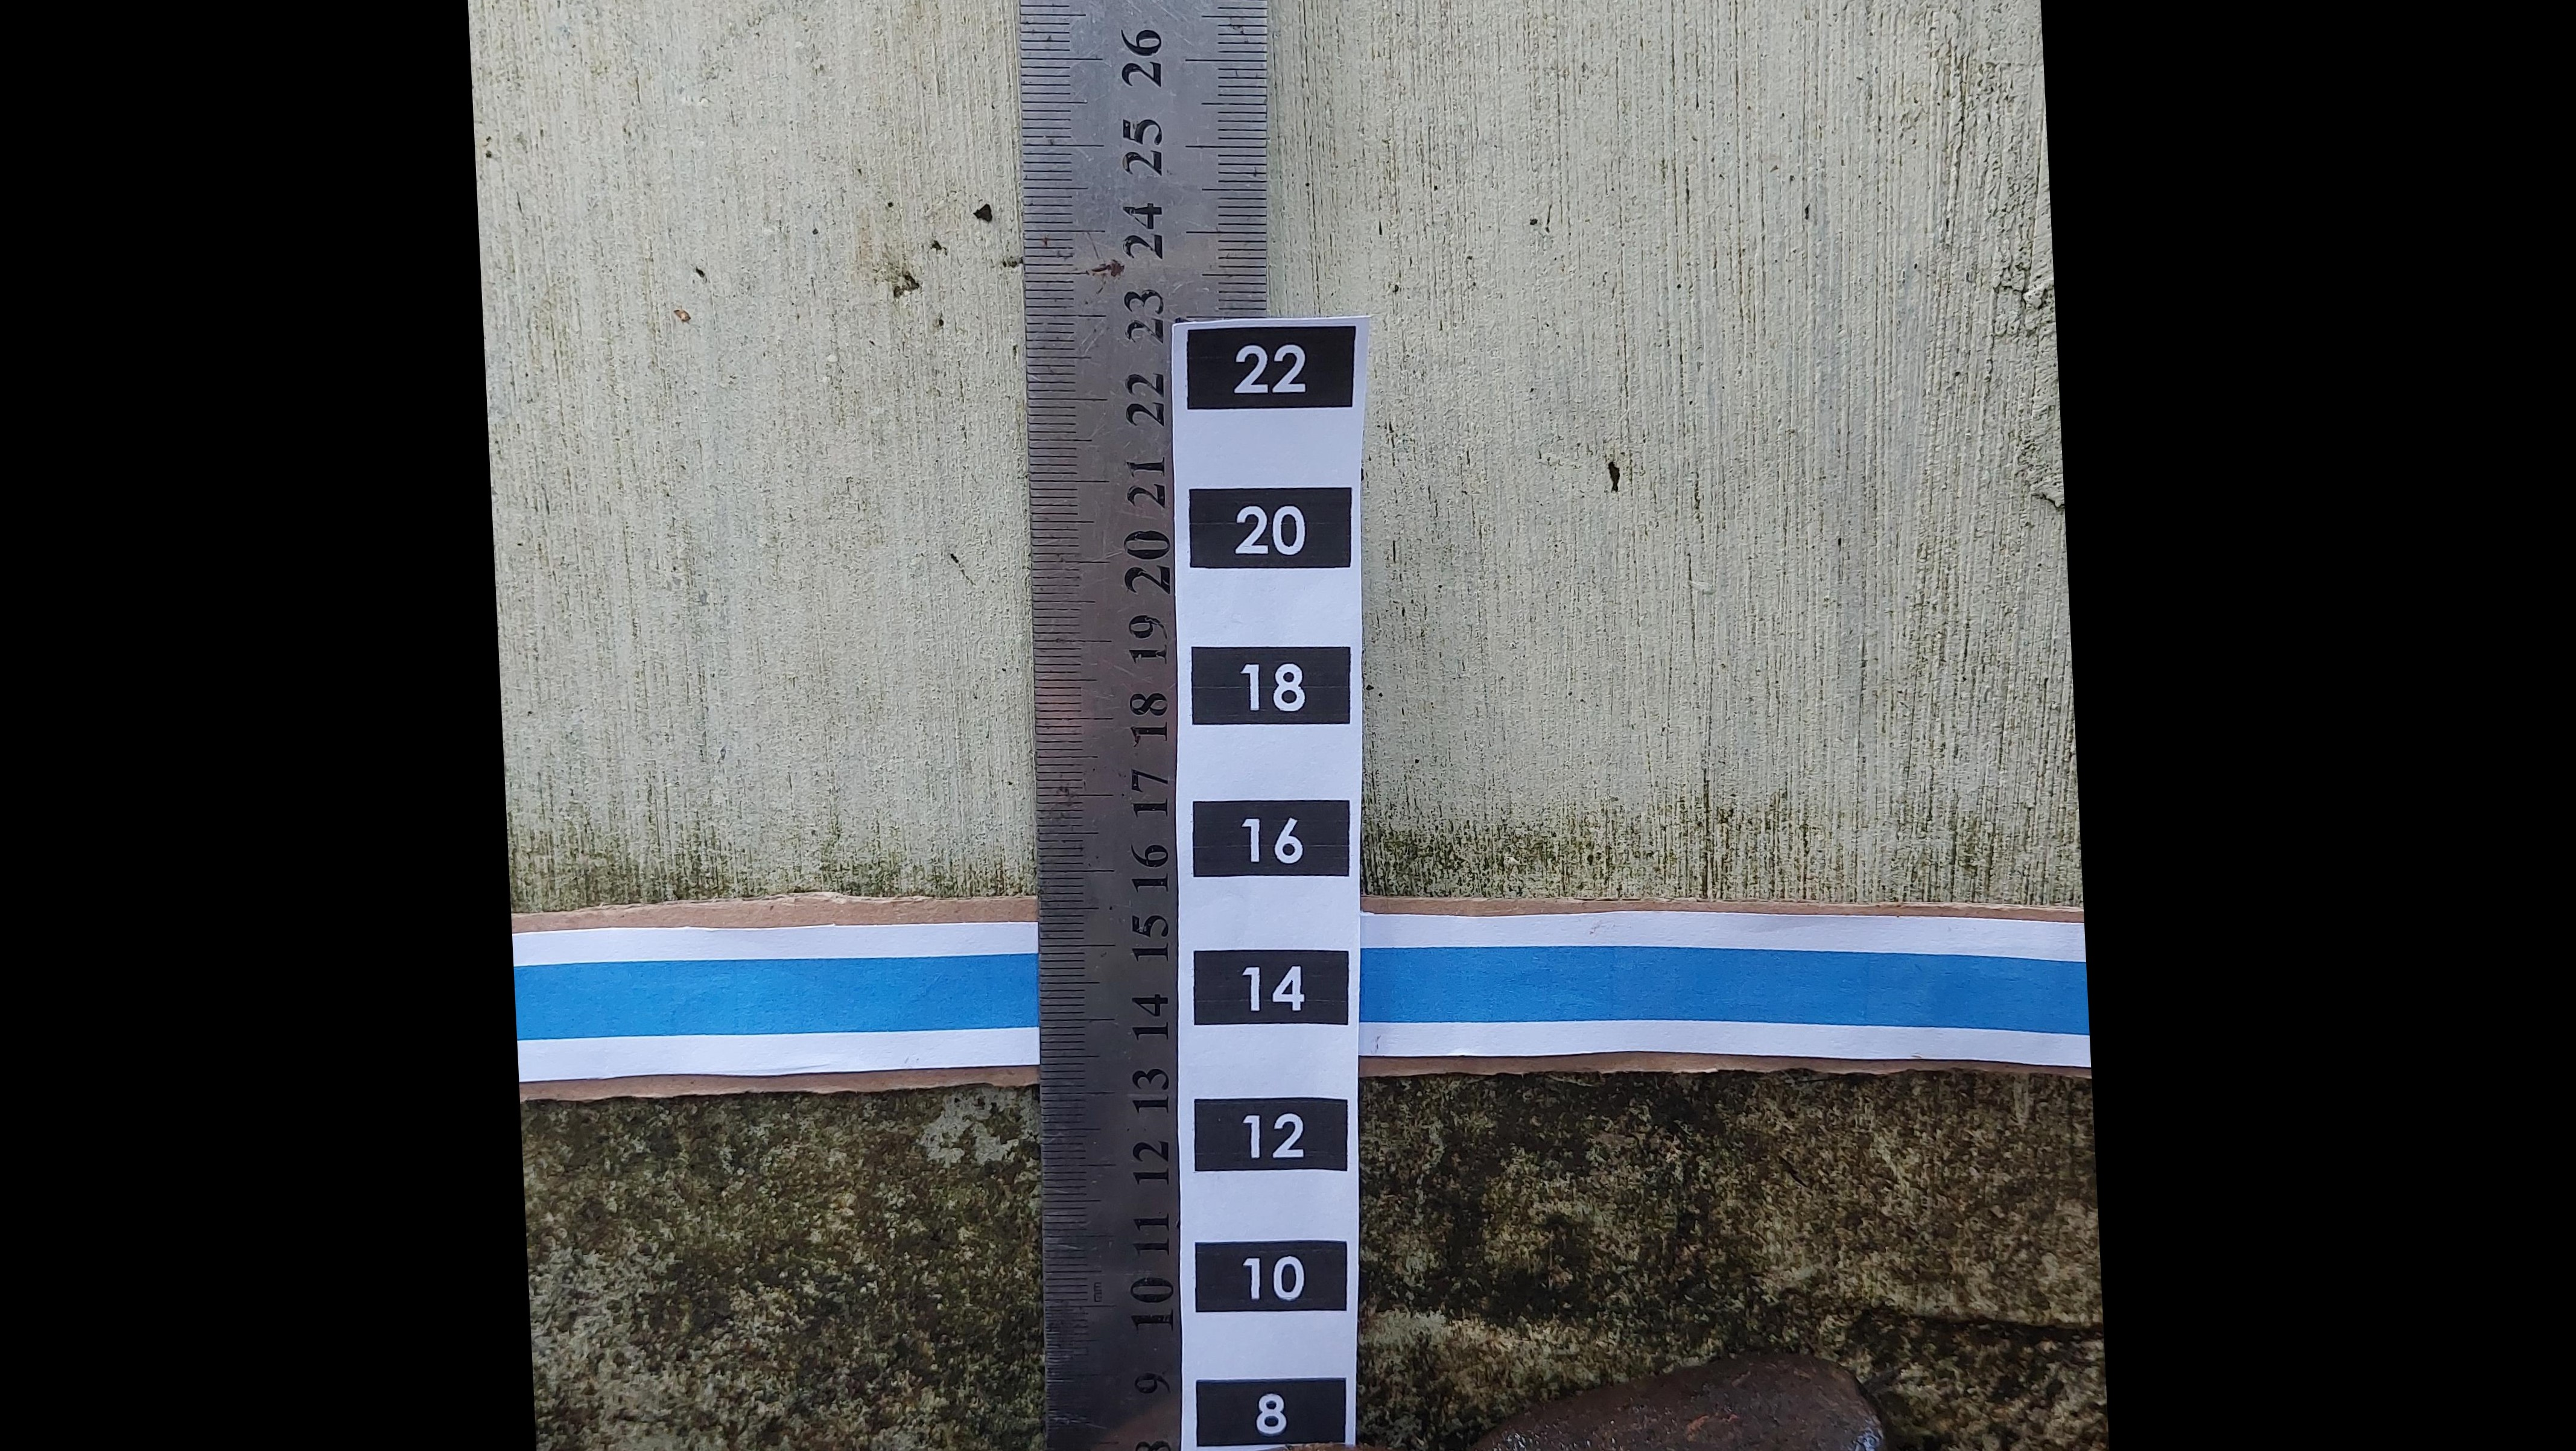kotak_2x1: (1185, 322, 1353, 412), (1185, 485, 1352, 573), (1189, 646, 1350, 724), (1191, 800, 1350, 878), (1192, 950, 1348, 1025), (1192, 1240, 1350, 1313), (1194, 1097, 1348, 1170)
